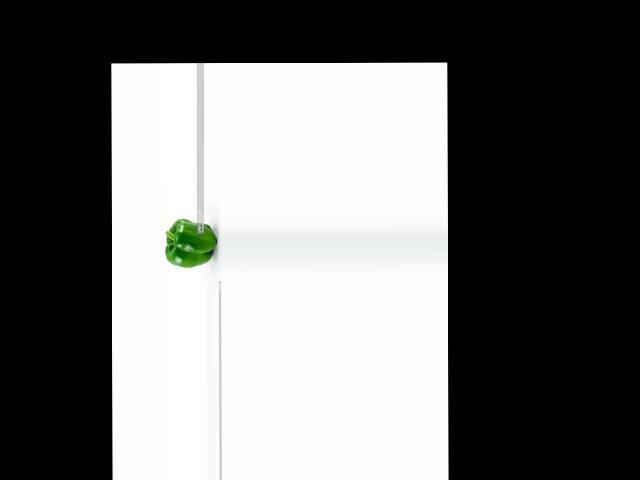bell_pepper: (162, 219, 218, 269)
